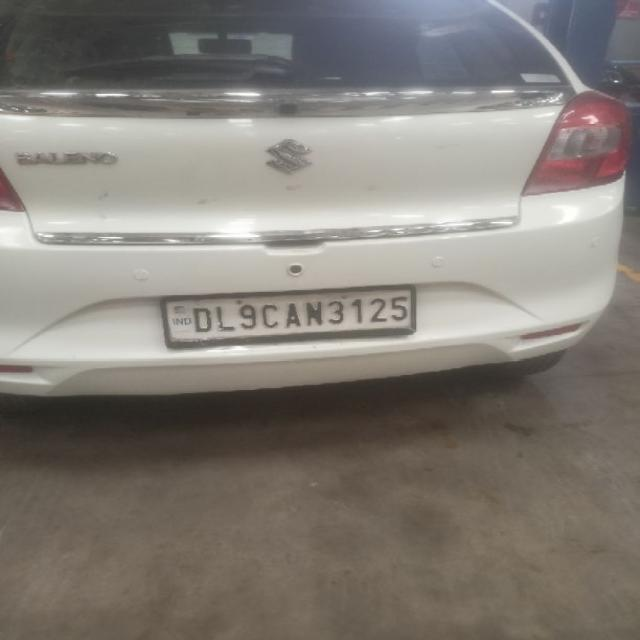license_plate: (160, 283, 417, 348)
